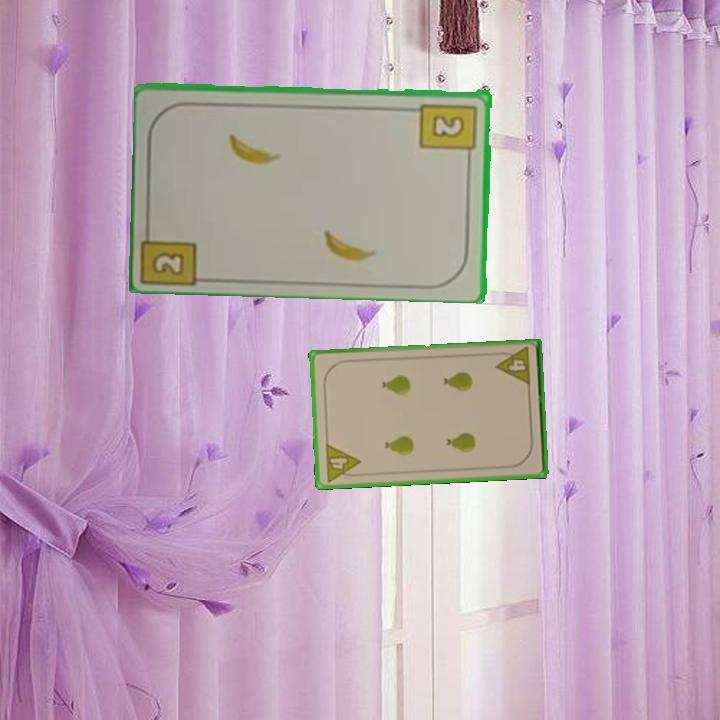2b: (141, 219, 202, 286), (417, 99, 480, 162)
4p: (321, 440, 364, 484), (492, 344, 533, 388)
